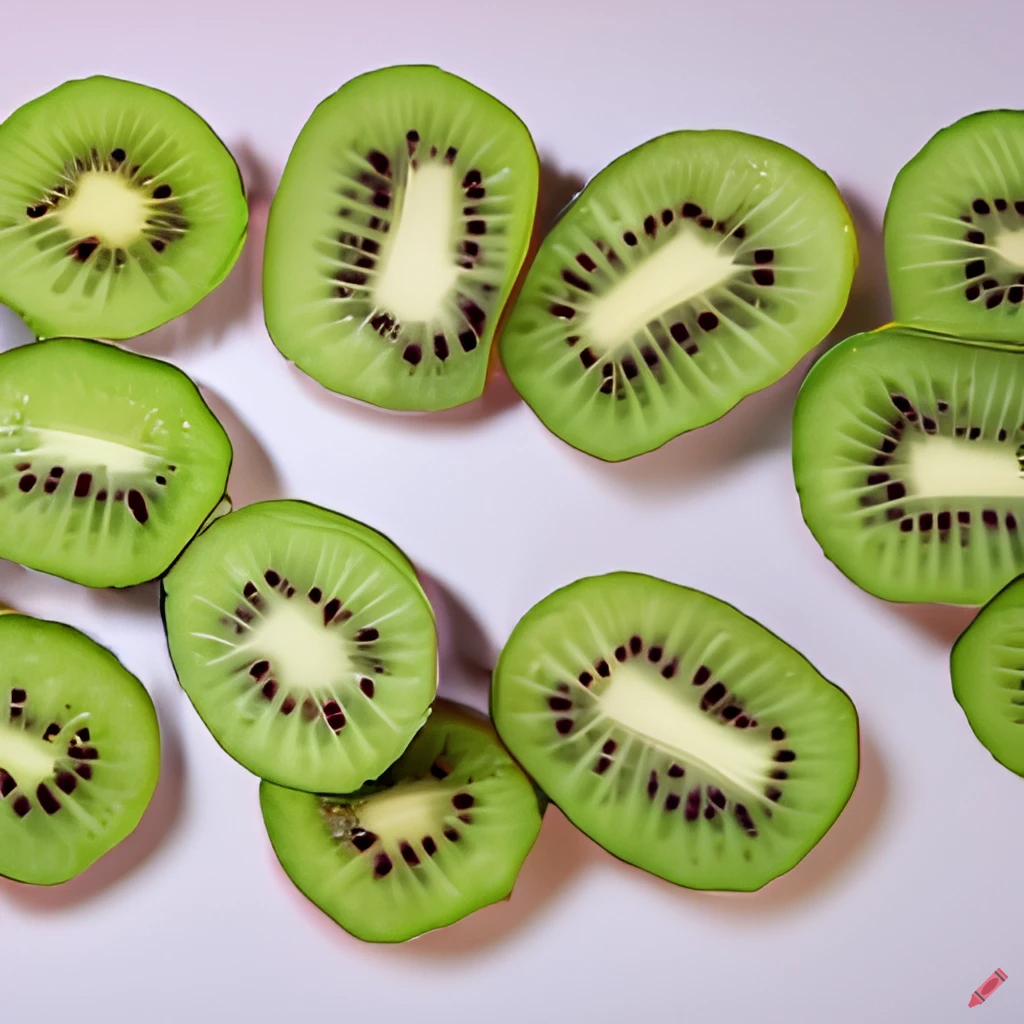Kiwi: (473, 538, 878, 905)
